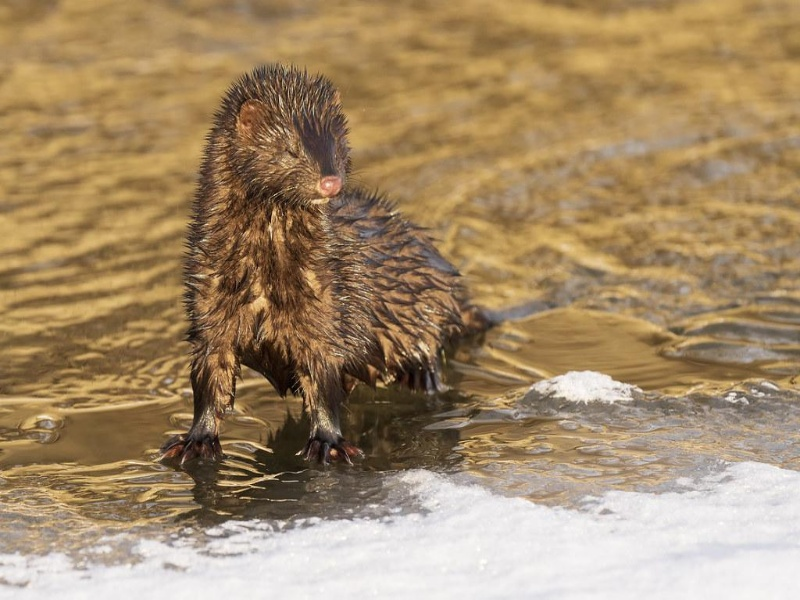minkish: (165, 58, 479, 483)
